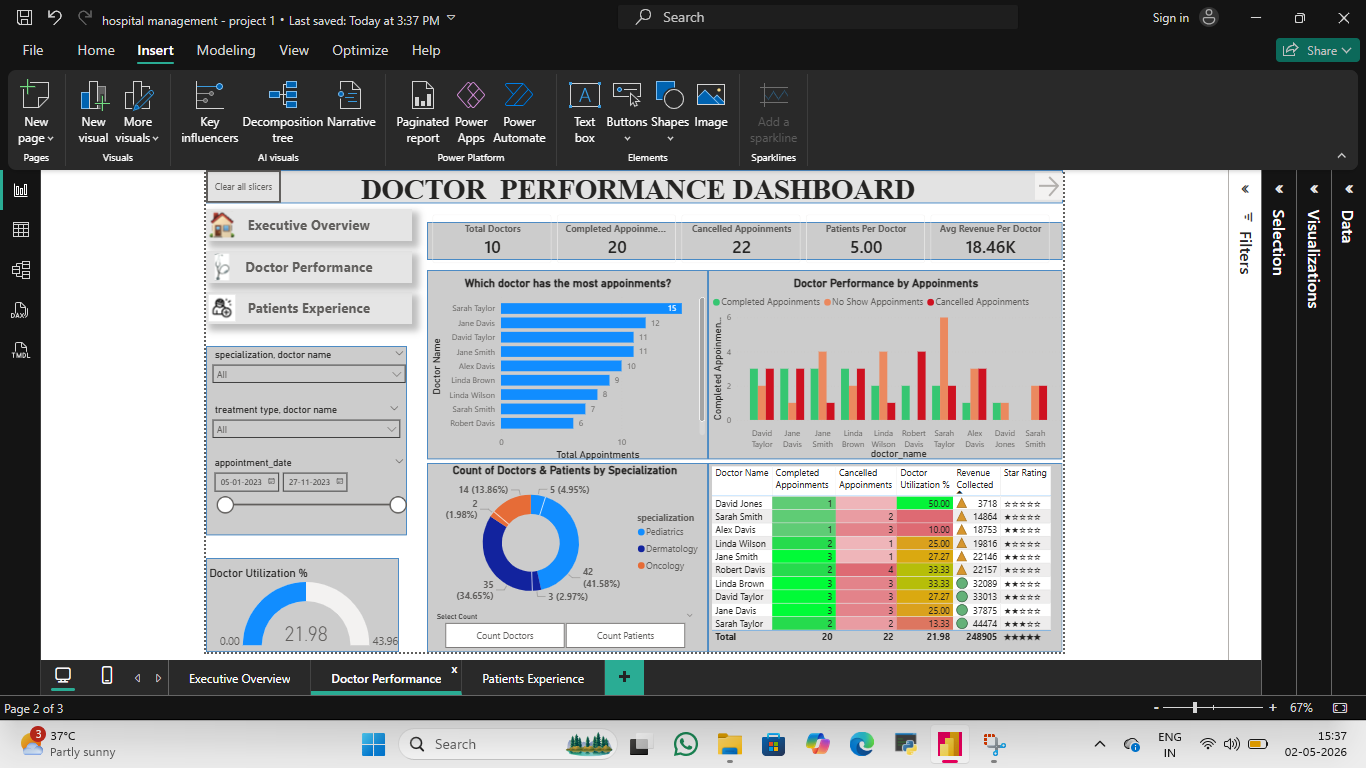

This screenshot's page, from the dashboard's own definition file:
{"tool":"powerbi","page":{"name":"Doctor Performance","canvas":[1280,720],"ordinal":1},"visuals":[{"type":"shape","box":[0,0,1280,49.8],"z":0},{"type":"shape","box":[330.7,149.1,419.8,282.7],"z":0,"group":"g1"},{"type":"group","id":"g1","title":"Background","box":[0,77.1,1280,642.6],"z":1000},{"type":"shape","box":[330.7,436.9,419.8,282.7],"z":1000,"group":"g1"},{"type":"textbox","box":[10.5,0,1269.7,68.7],"z":2000},{"type":"shape","box":[750.5,149.1,529.5,282.7],"z":2000,"group":"g1"},{"type":"actionButton","box":[0,0,112,49.3],"z":3000},{"type":"shape","box":[750.5,436.9,529.5,282.7],"z":3000,"group":"g1"},{"type":"actionButton","box":[1238.2,4.5,41.8,40.3],"z":4000},{"type":"shape","box":[330.7,77.1,949.3,56.5],"z":4000,"group":"g1"},{"type":"actionButton","box":[0,58.3,307.7,47.8],"z":5000},{"type":"shape","box":[0,262.2,299.9,282.7],"z":5000,"group":"g1"},{"type":"actionButton","box":[0,121,307.7,47.8],"z":6000},{"type":"shape","box":[0,579.2,287.9,140.5],"z":6000,"group":"g1"},{"type":"actionButton","box":[0,182.2,307.7,47.8],"z":7000},{"type":"barChart","title":"Which doctor has the most appoinments?","fields":{"Category":["doctors.doctor_name"],"Y":["_Measure.Total Appointments"]},"box":[325.6,152.4,418.3,279.3],"z":8000},{"type":"gauge","fields":{"Y":["_Measure.Doctor Utilization %"]},"box":[0,591.5,307.7,128.5],"z":9000},{"type":"clusteredColumnChart","title":"Doctor Performance by Appoinments","fields":{"Category":["doctors.doctor_name"],"Y":["_Measure.Completed Appoinments","_Measure.No Show Appoinments","_Measure.Cancelled Appoinments"]},"box":[751.4,158.3,528.8,279.3],"z":10000},{"type":"donutChart","title":"Count of Doctors & Patients by Specialization","fields":{"Y":["_Measure.Count Patients"],"Category":["doctors.specialization"]},"box":[320.4,436.9,430.1,219.3],"z":11000},{"type":"tableEx","fields":{"Values":["doctors.doctor_name","_Measure.Completed Appoinments","_Measure.Cancelled Appoinments","_Measure.Doctor Utilization %","Sum(treatments.cost)","DateTable.Star Rating"]},"box":[750.5,436.9,529.5,282.7],"z":12000},{"type":"cardVisual","fields":{"Data":["_Measure.Total Doctors","_Measure.Completed Appoinments","_Measure.Cancelled Appoinments","_Measure.Patients Per Doctor","_Measure.Avg Revenue Per Doctor"]},"box":[320.4,49.7,959.6,108],"z":13000},{"type":"slicer","fields":{"Values":["Select Count.Select Count"]},"box":[331.2,655.4,408.4,65.2],"z":14000},{"type":"slicer","fields":{"Values":["appointments.appointment_date Hierarchy.appointment_date"]},"box":[0,424.2,307.7,167.3],"z":15000},{"type":"slicer","fields":{"Values":["doctors.specialization","doctors.doctor_name"]},"box":[0,262.9,307.7,70.2],"z":16000},{"type":"slicer","fields":{"Values":["treatments.treatment_type","doctors.doctor_name"]},"box":[0,345.1,300.2,67.2],"z":17000}]}

Visuals, with their boxes on the page's 1280x720 design canvas (x1, y1, x2, y2). These are canvas units, not pixel positions in the 1366x768 screenshot, which may show the page scaled, cropped or inside an application window:
shape: BBox(0, 0, 1280, 50)
shape: BBox(331, 149, 750, 432)
"Background" group: BBox(0, 77, 1280, 720)
shape: BBox(331, 437, 750, 720)
textbox: BBox(10, 0, 1280, 69)
shape: BBox(750, 149, 1280, 432)
actionButton: BBox(0, 0, 112, 49)
shape: BBox(750, 437, 1280, 720)
actionButton: BBox(1238, 4, 1280, 45)
shape: BBox(331, 77, 1280, 134)
actionButton: BBox(0, 58, 308, 106)
shape: BBox(0, 262, 300, 545)
actionButton: BBox(0, 121, 308, 169)
shape: BBox(0, 579, 288, 720)
actionButton: BBox(0, 182, 308, 230)
"Which doctor has the most appoinments?" barChart: BBox(326, 152, 744, 432)
gauge - _Measure.Doctor Utilization %: BBox(0, 592, 308, 720)
"Doctor Performance by Appoinments" clusteredColumnChart: BBox(751, 158, 1280, 438)
"Count of Doctors & Patients by Specialization" donutChart: BBox(320, 437, 750, 656)
tableEx - doctors.doctor_name x _Measure.Completed Appoinments: BBox(750, 437, 1280, 720)
cardVisual - _Measure.Total Doctors x _Measure.Completed Appoinments: BBox(320, 50, 1280, 158)
slicer - Select Count.Select Count: BBox(331, 655, 740, 721)
slicer - appointments.appointment_date Hierarchy.appointment_date: BBox(0, 424, 308, 592)
slicer - doctors.specialization x doctors.doctor_name: BBox(0, 263, 308, 333)
slicer - treatments.treatment_type x doctors.doctor_name: BBox(0, 345, 300, 412)
